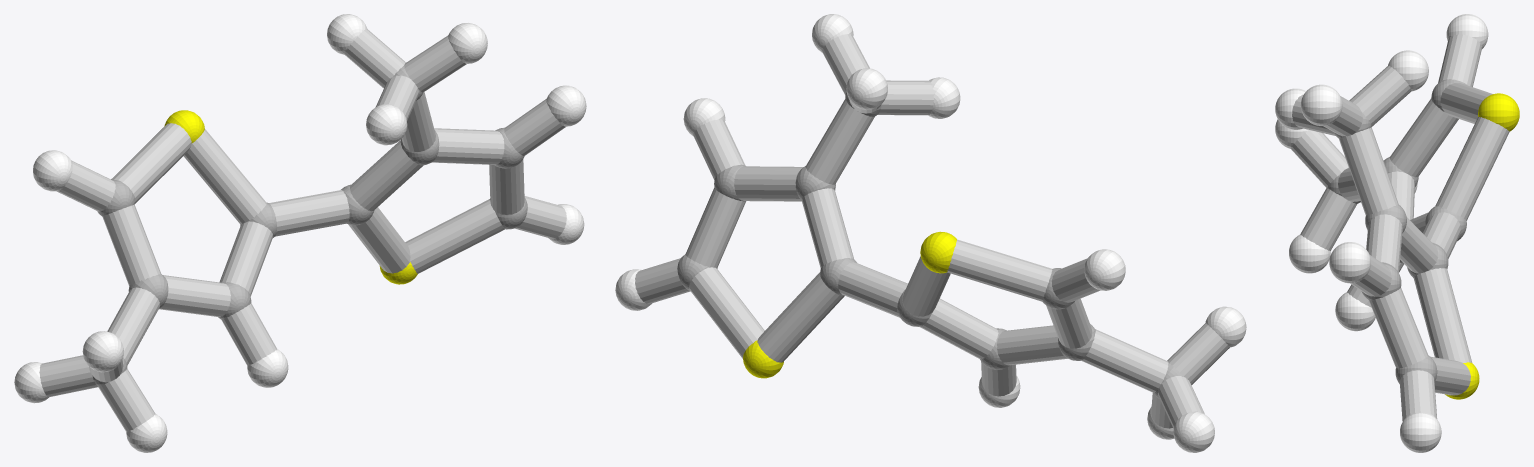
Rendered from Methylthiophene_Phi_20_Theta_60_Methylthiophene.glb.
3 views of the same model, side by side, from view 1: azimuth 30°, elevation 25°; view 2: azimuth 150°, elevation 25°; view 3: azimuth 270°, elevation 25° (orthographic).
Visible parts, largest first — view 1: grp7965, grp3621, grp1, grp7241; view 2: grp7965, grp3621, grp1, grp7241; view 3: grp7965, grp3621, grp1, grp7241.
Part boxes in pixels (x1,y1,x2,y2): grp7965: [39, 29, 566, 431]; grp3621: [14, 14, 586, 452]; grp1: [92, 66, 527, 386]; grp7241: [164, 110, 417, 284]; grp7965: [635, 34, 1229, 428]; grp3621: [615, 14, 1246, 452]; grp1: [677, 92, 1182, 398]; grp7241: [743, 231, 956, 378]; grp7965: [1291, 34, 1509, 421]; grp3621: [1275, 14, 1488, 452]; grp1: [1327, 79, 1466, 384]; grp7241: [1445, 93, 1519, 399].
Bounding box in the file's own units: 9.65 × 5.48 × 3.51.
